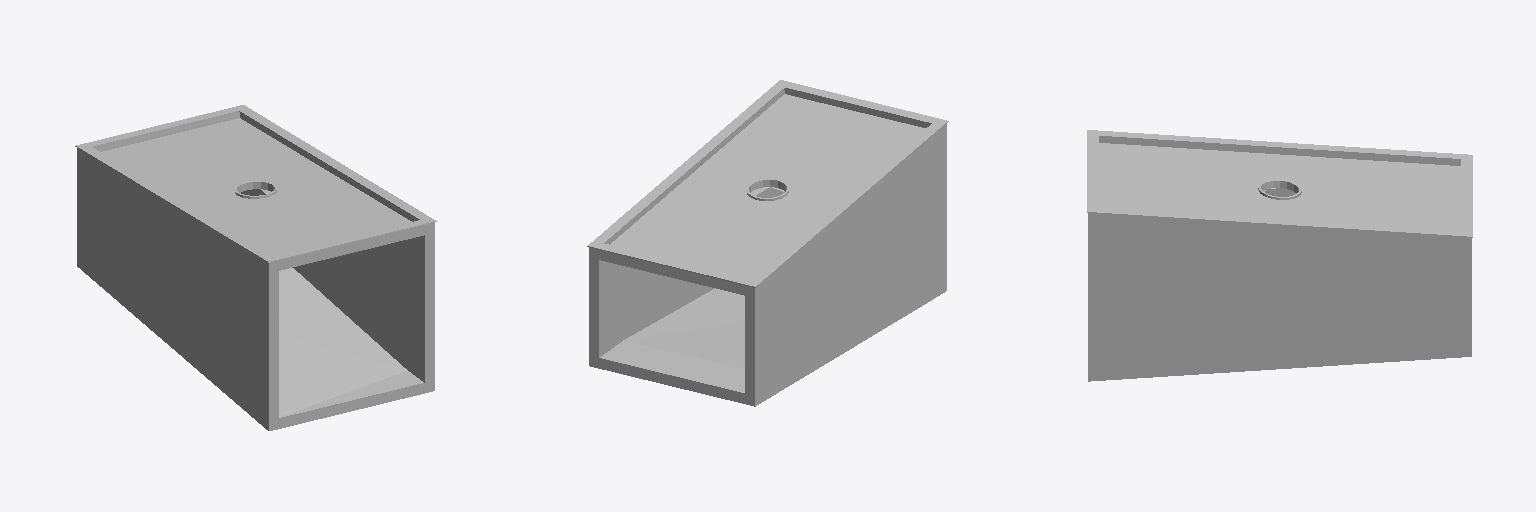
Rendered from HouseTextureTest.obj.
3 renders of one model, left to right at view 1: azimuth 30°, elevation 25°; view 2: azimuth 150°, elevation 25°; view 3: azimuth 270°, elevation 25°, orthographic.
Parts seen in each view (by area): view 1: Baumhaus_3_2_Mesh.007; view 2: Baumhaus_3_2_Mesh.007; view 3: Baumhaus_3_2_Mesh.007.
Part boxes in pixels (bbox=[...]): Baumhaus_3_2_Mesh.007: bbox=[75, 105, 436, 430]; Baumhaus_3_2_Mesh.007: bbox=[587, 80, 948, 406]; Baumhaus_3_2_Mesh.007: bbox=[1087, 130, 1472, 381].
Bounding box in the file's own units: 4.05 × 3.92 × 8.05.